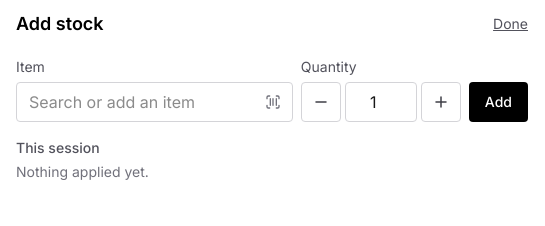
Test case: BatchEntry › adds the chosen quantity of a picked item and logs the delta and new total
The image size is (545, 226).
Type "Ri" into the dropdown labelled "Item" at (154, 102), box [16,82,293,122]
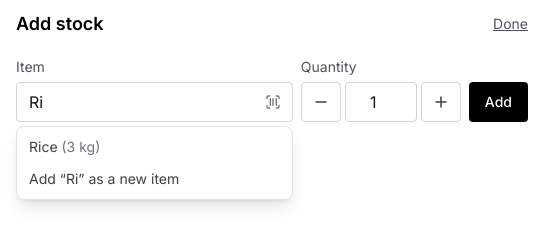
Press the mouse on the option "Rice (3 kg)" at (65, 146), box [29,138,100,155]
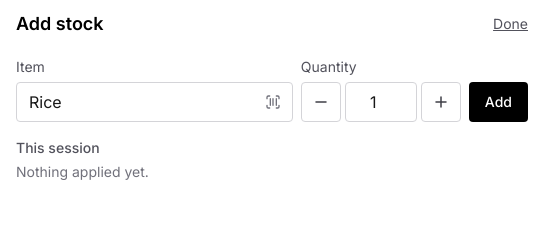
Replace the text in the number field labelled "Quantity" with "2" at (381, 102), box [345,82,417,122]
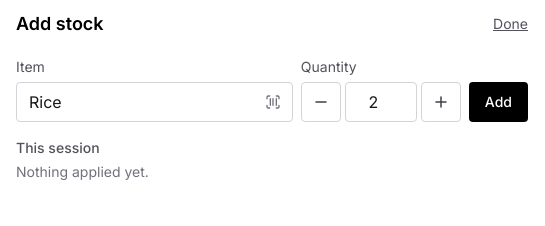
Click the button "Add" at (498, 102), box [469,82,528,122]
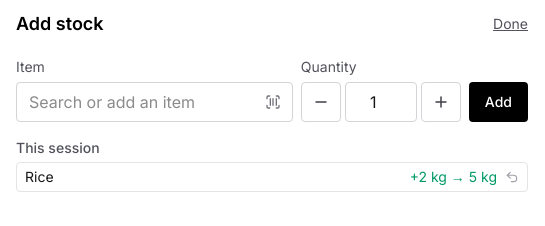
Expected: the list item shows "Rice", [25,168,54,185]
Expected: the list item shows "+2 kg → 5 kg", [16,162,528,192]
